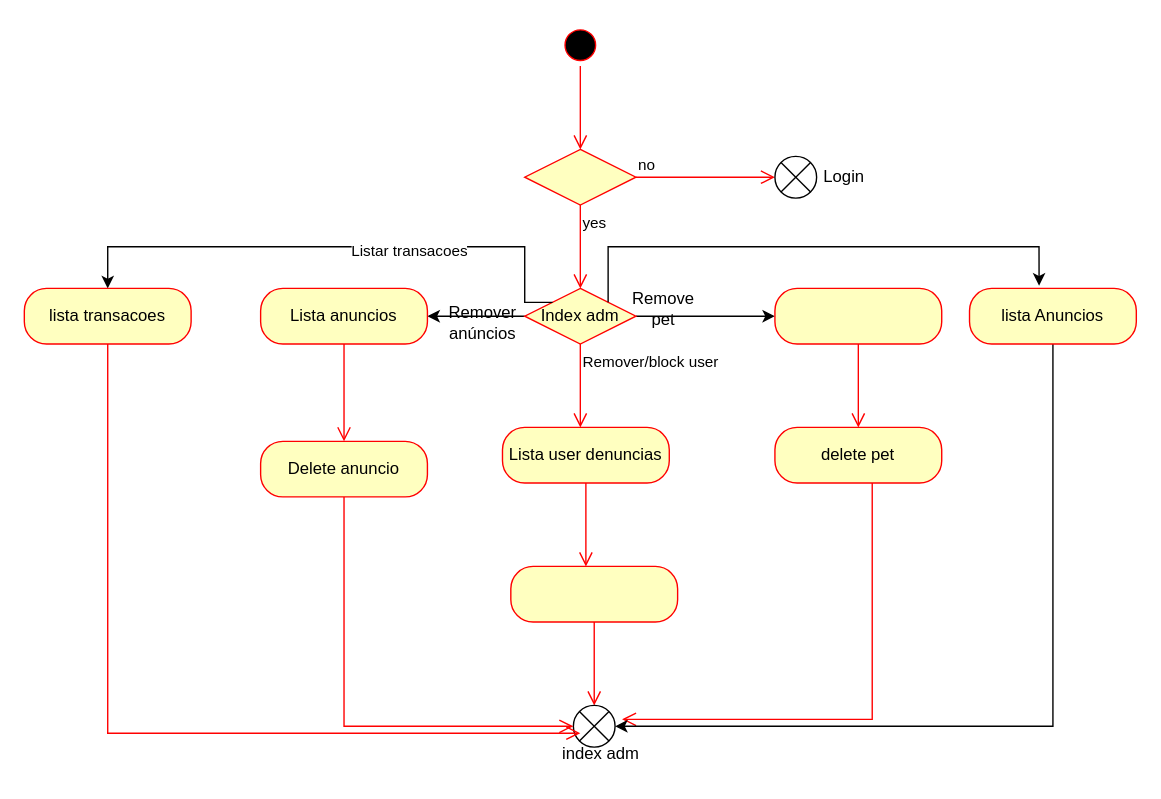
The diagram is 1161 pixels wide and 799 high, and some of its shapes have lost their labels. The box of each missing label's shape, as (x1, y1, x2, y2) in pixels:
block/remove user: (509, 565, 678, 622)
lista pets: (774, 287, 942, 344)
logado Adm?: (523, 148, 636, 205)
